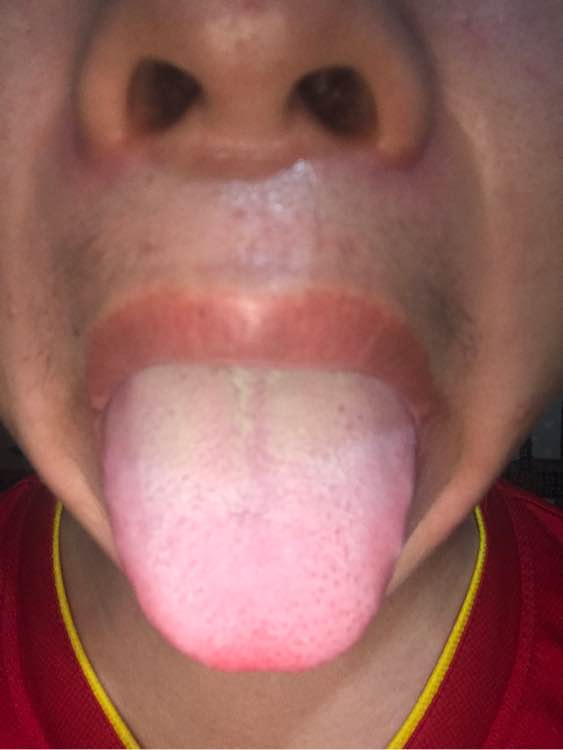hongshe: (101, 361, 414, 671)
huangtaishe: (101, 361, 414, 671)
